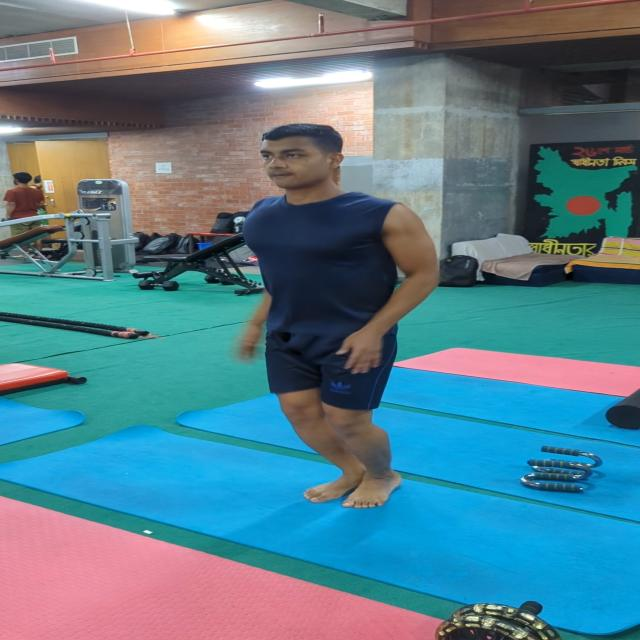Normal_JumpingJacks: (146, 127, 510, 533)
